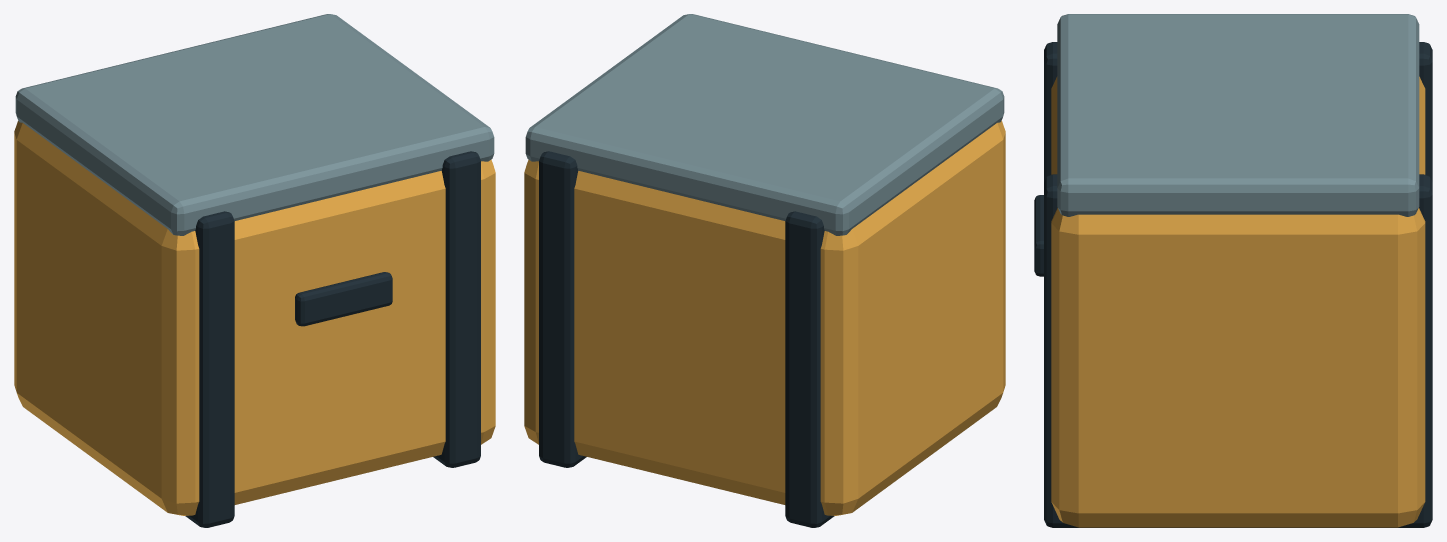
Rendered from prop_cargo_crate.glb.
The picture shows the model from 3 angles, left to right: view 1: azimuth 30°, elevation 25°; view 2: azimuth 150°, elevation 25°; view 3: azimuth 270°, elevation 25°; orthographic projection. The views are drawn at different scales.
Parts seen in each view (by area): view 1: crate_shell, crate_lid, crate_band, crate_band.001, crate_handle; view 2: crate_shell, crate_lid, crate_band, crate_band.001; view 3: crate_shell, crate_lid, crate_band.001, crate_band, crate_handle.
Part boxes in pixels (x1,y1,x2,y2): crate_shell: (14,120,495,515); crate_lid: (15,14,494,235); crate_band: (185,211,234,527); crate_band.001: (433,151,480,467); crate_handle: (295,272,392,326); crate_shell: (524,120,1005,515); crate_lid: (525,14,1004,235); crate_band: (785,211,834,527); crate_band.001: (539,151,586,467); crate_shell: (1051,76,1425,527); crate_lid: (1057,14,1419,216); crate_band.001: (1044,174,1432,527); crate_band: (1044,42,1432,181); crate_handle: (1034,195,1043,276).
Bounding box in the file's own units: 0.7 × 0.6575 × 0.661.
